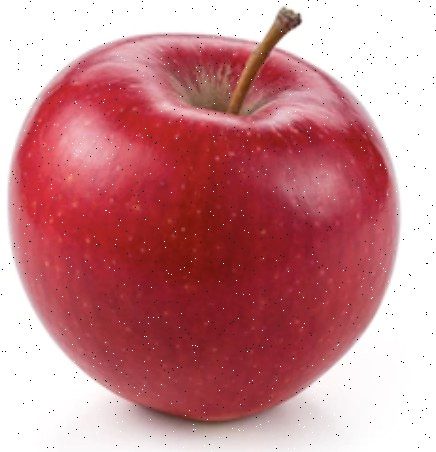fresh_apple: (7, 32, 405, 425)
